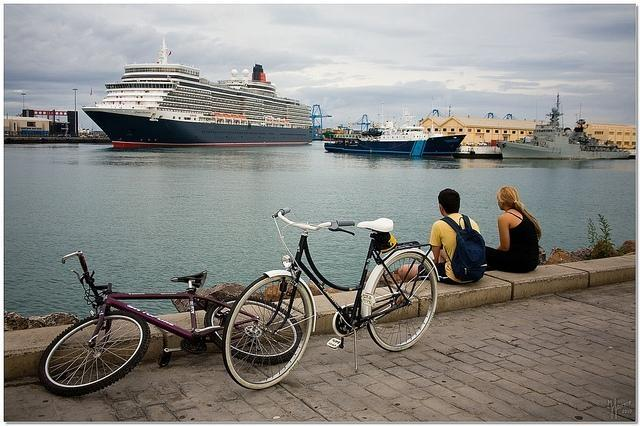bicycle: (224, 210, 448, 388), (41, 248, 234, 398)
